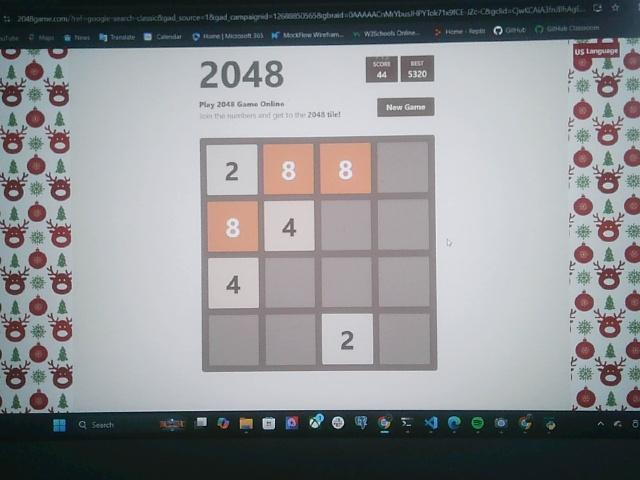best_score_box: (402, 56, 435, 83)
board: (202, 138, 436, 372)
button: (378, 97, 433, 118)
score_box: (366, 56, 398, 83)
tile: (317, 143, 371, 196), (263, 200, 316, 253), (208, 256, 260, 309), (263, 144, 315, 195), (323, 313, 374, 365), (208, 201, 259, 252), (208, 146, 257, 193)
